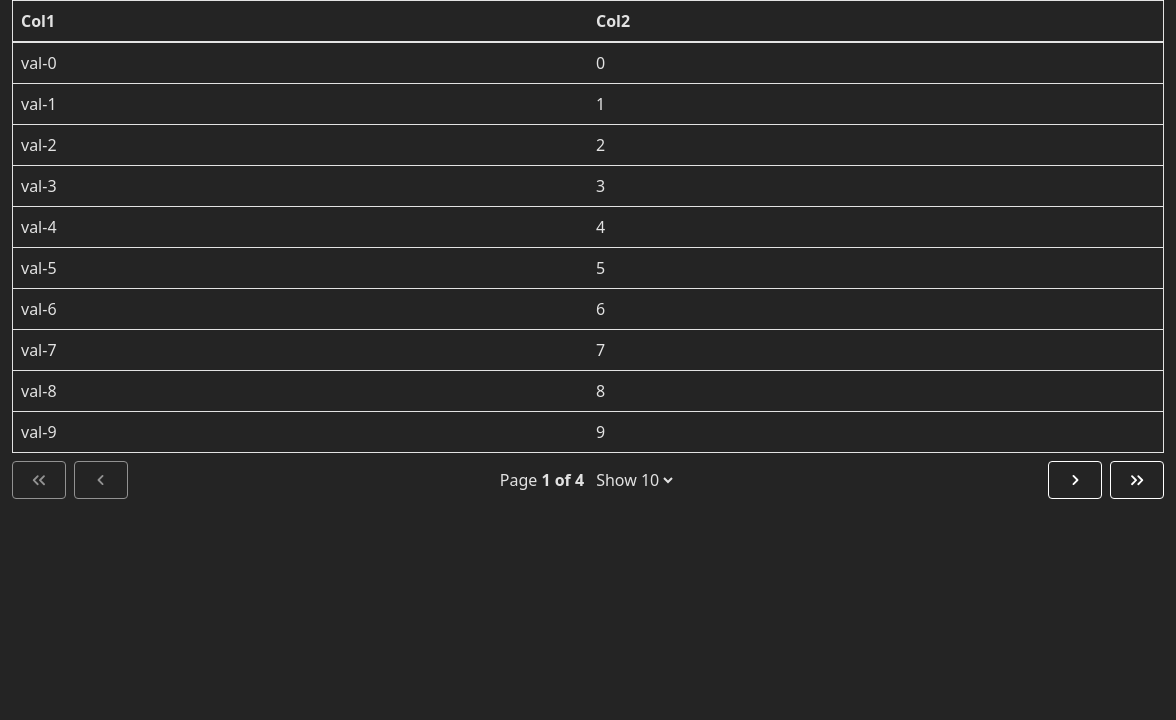
Test: Table › changes page when clicking pagination buttons
The image size is (1176, 720).
Check: the text "1 of 4" is shown, box [541, 468, 584, 492]
Click the 3rd button named "Next Page". click: x=1075, y=480
box: [1048, 461, 1102, 499]
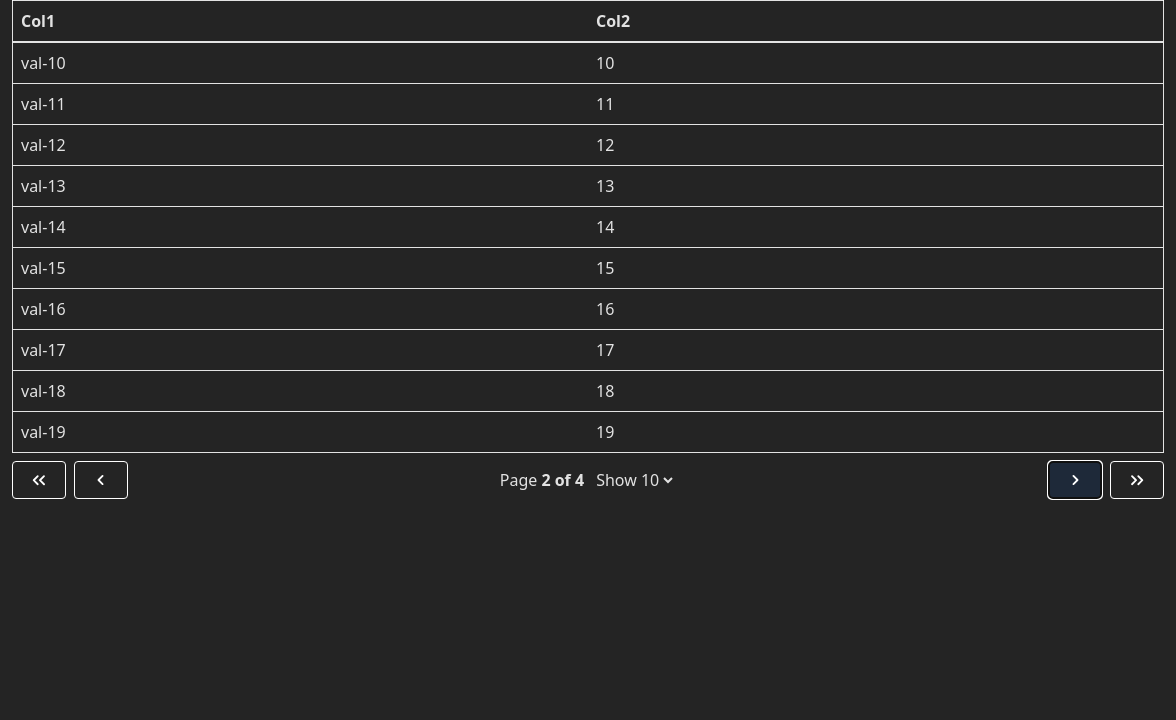
Check: the text "2 of 4" is shown, box [541, 468, 584, 492]
Click the 4th button named "Last Page". click: x=1137, y=480
box: [1110, 461, 1164, 499]
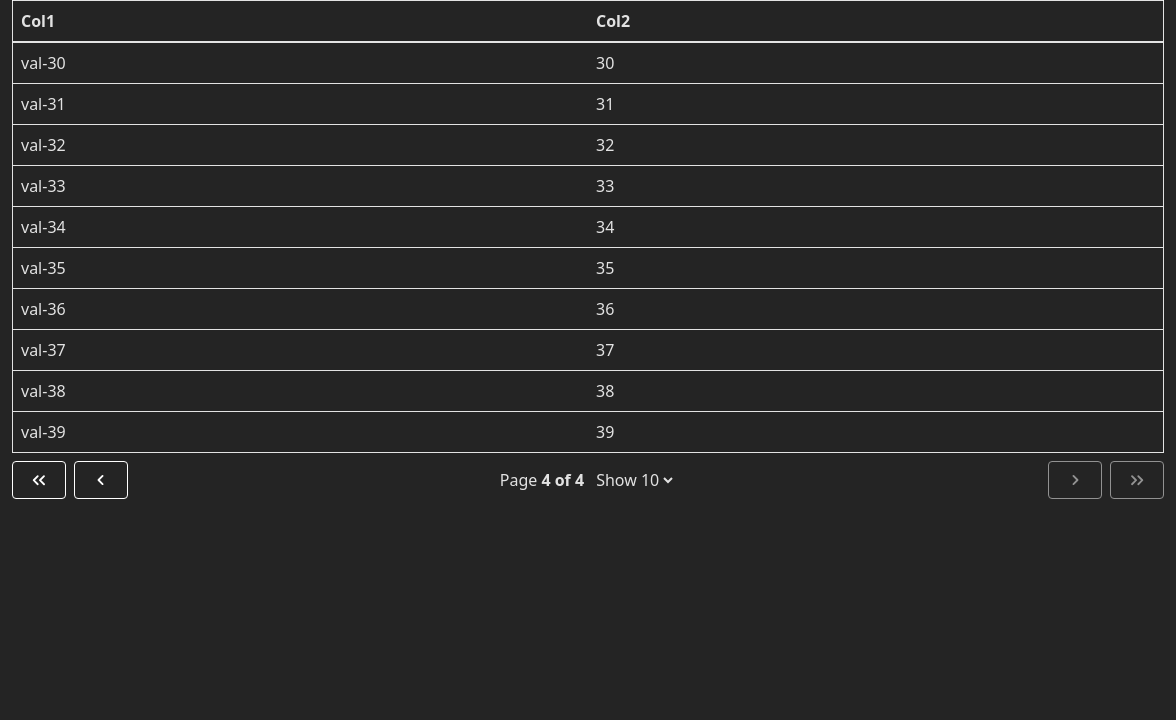
Check: the text "4 of 4" is shown, box [541, 468, 584, 492]
Click the 2nd button named "Previous Page". click: x=101, y=480
box: [74, 461, 128, 499]
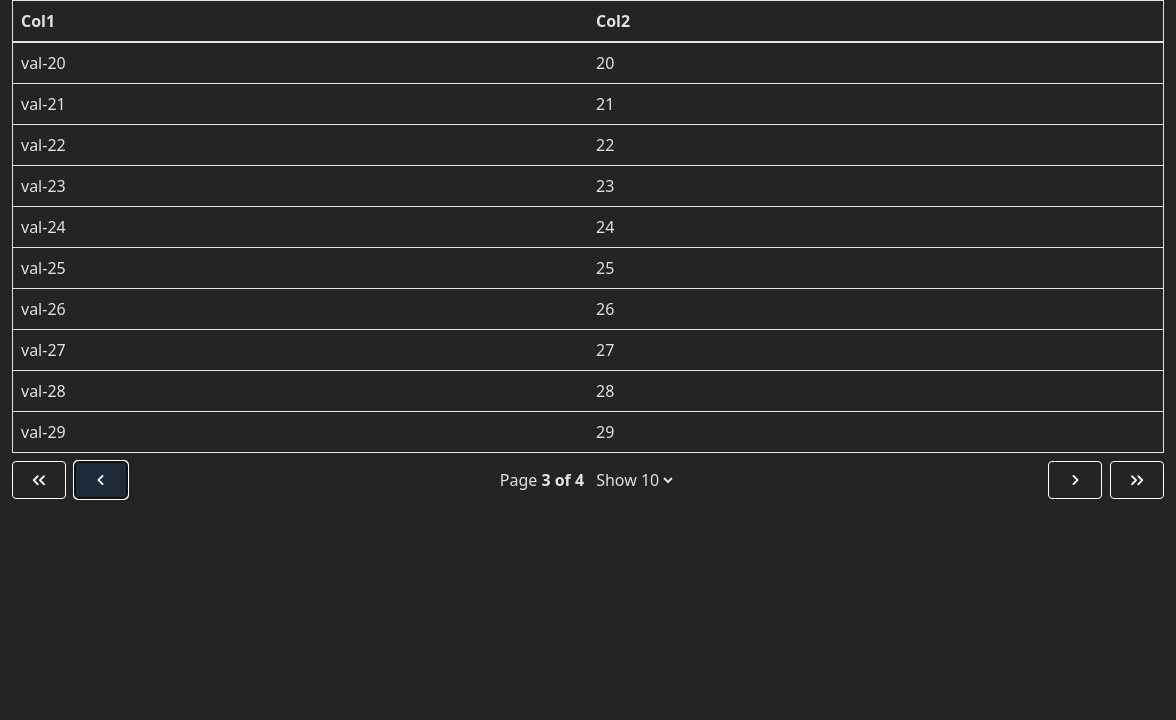
Check: the text "3 of 4" is shown, box [541, 468, 584, 492]
Click the 1st button named "First Page". click: x=39, y=480
box: [12, 461, 66, 499]
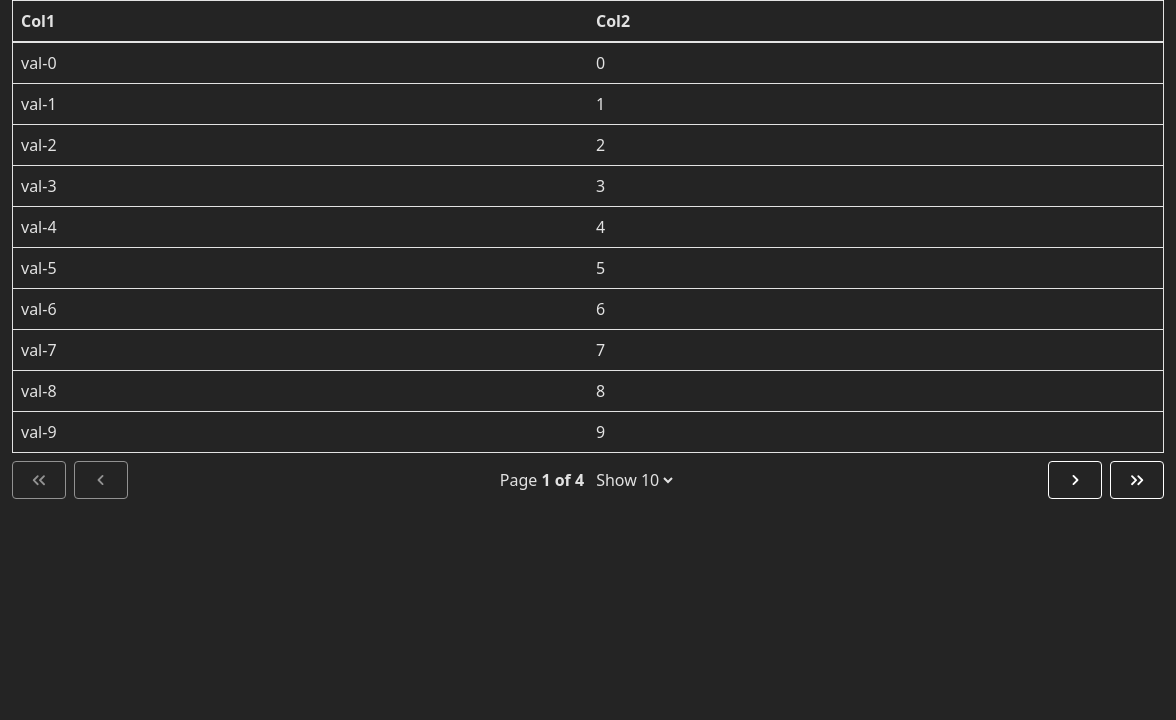
Check: the text "1 of 4" is shown, box [541, 468, 584, 492]
